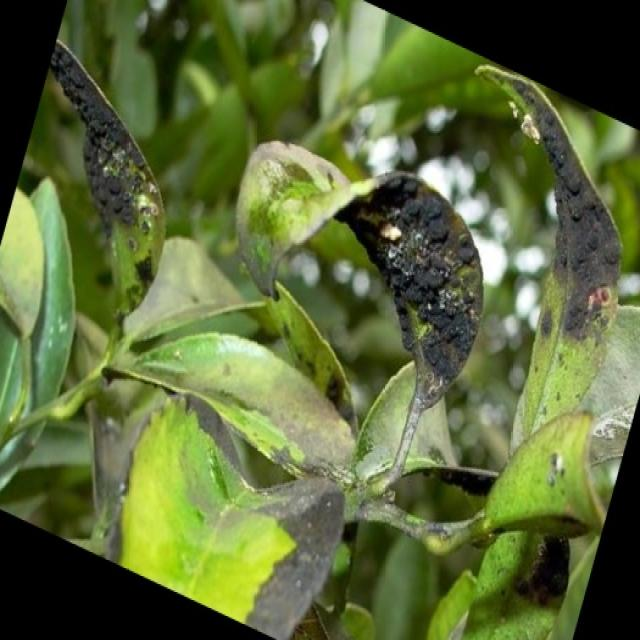Sooty Mold: (44, 61, 577, 538)
